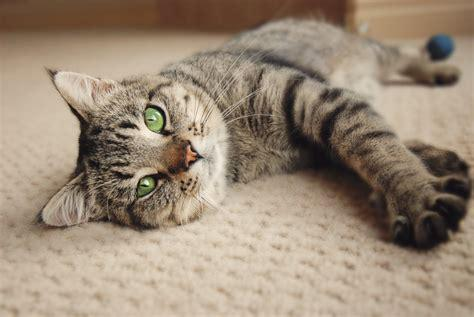cat: (40, 19, 469, 249)
